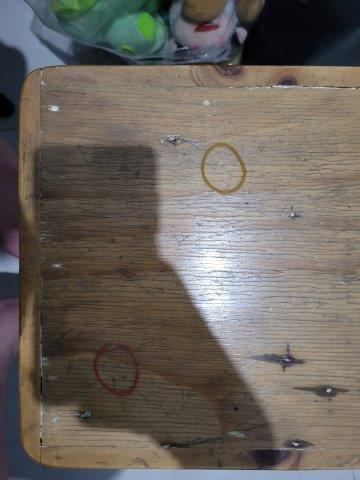karet: (93, 344, 140, 397), (202, 143, 247, 194)
